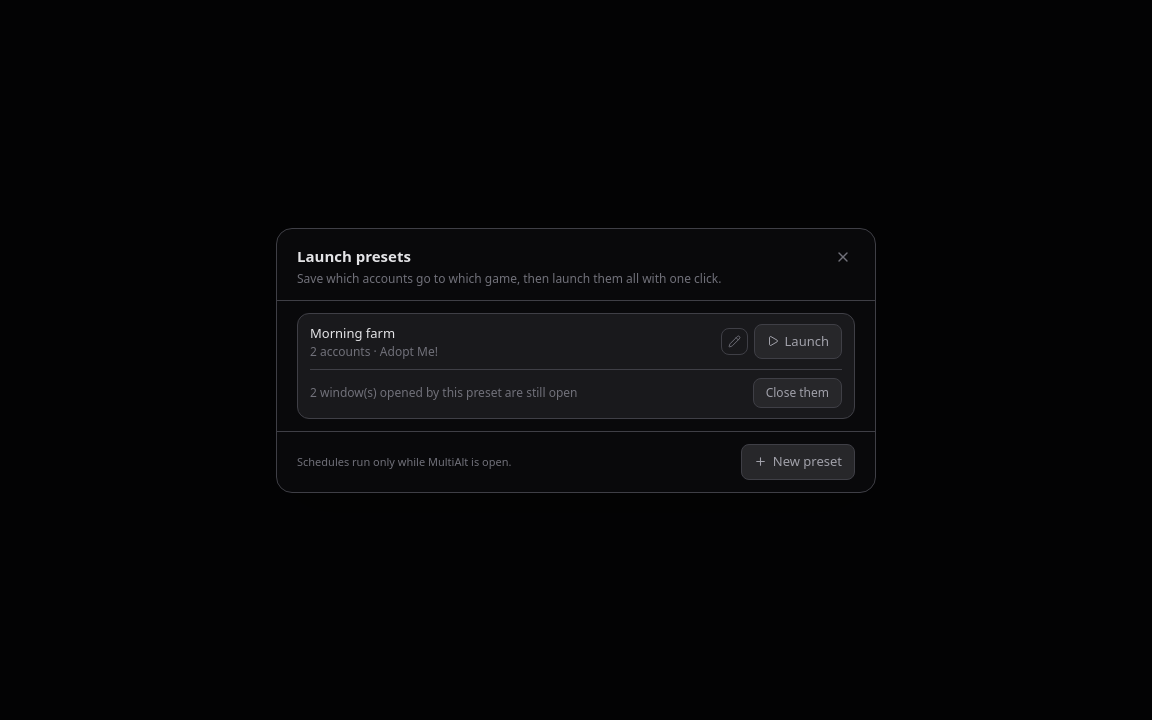
Test case: PresetsDialog — lista › closing runs once even on a double click, and the row is read again after
The width and height of the screenshot is (1152, 720).
Double-click the button "Close them" at (797, 393), box left=753, top=378, right=842, bottom=408
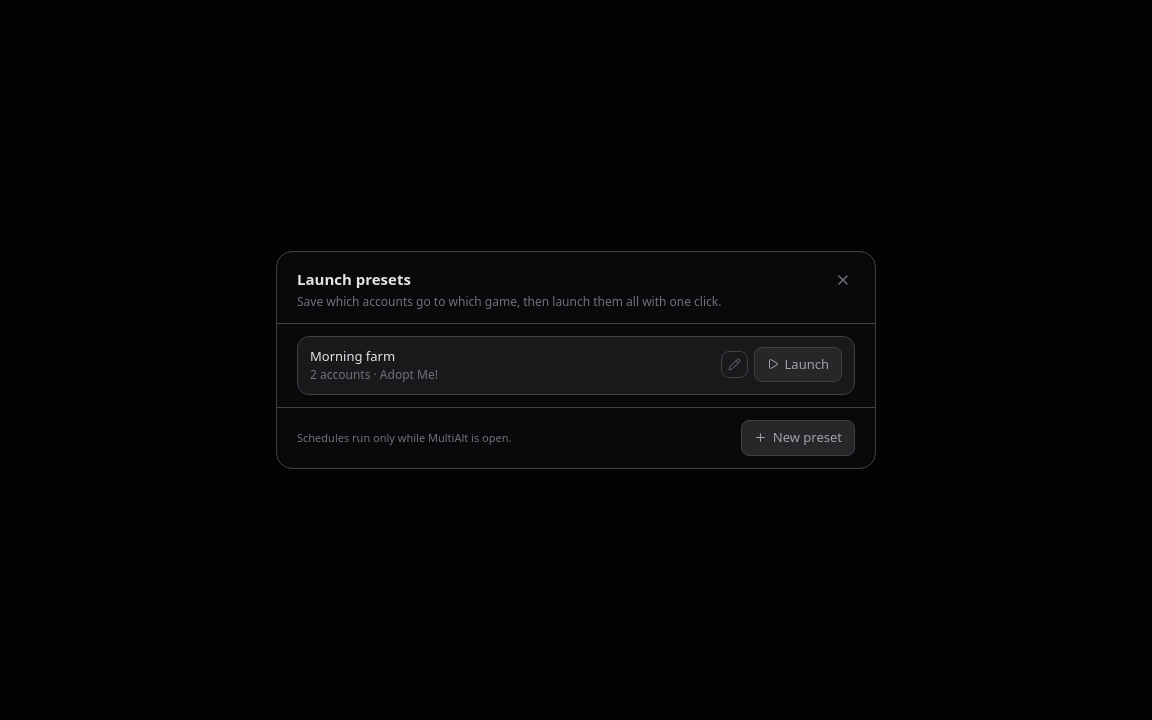
Expected: the text "still open" is gone
